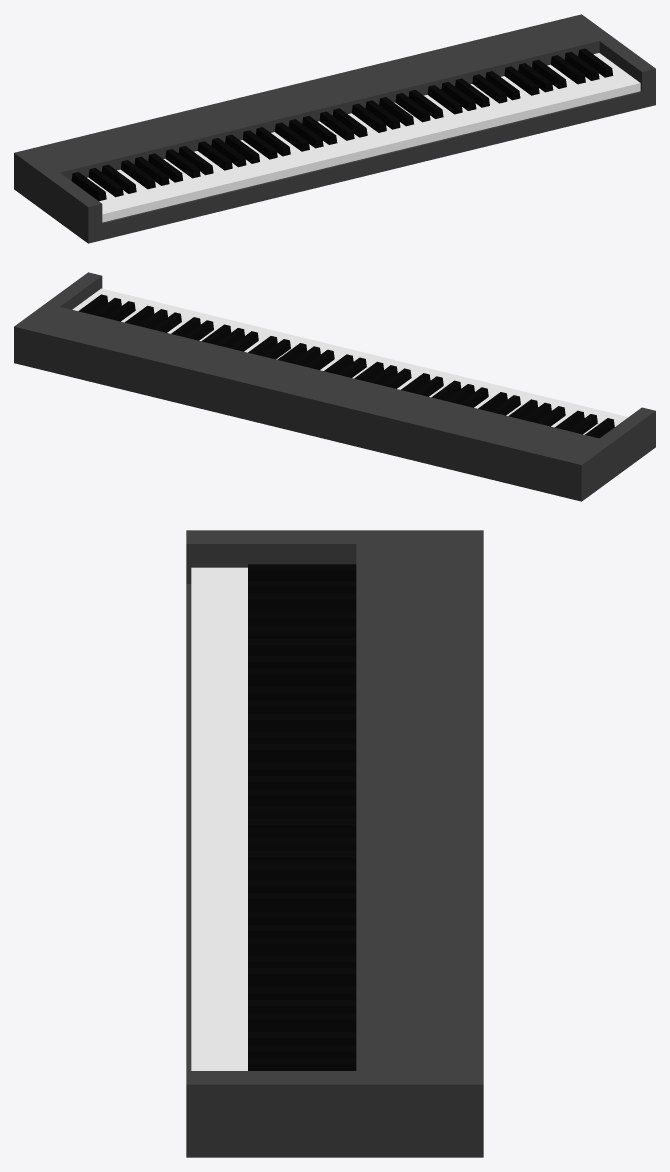
The model's file is Piano.fbx.
The picture shows the model from 3 angles, top to bottom: view 1: azimuth 30°, elevation 25°; view 2: azimuth 150°, elevation 25°; view 3: azimuth 270°, elevation 25°; orthographic projection. The views are drawn at different scales.
Parts seen in each view (by area): view 1: Cube; view 2: Cube; view 3: Cube.
Part boxes in pixels (x1=…): Cube: x1=14, y1=14, x2=655, y2=243; Cube: x1=14, y1=272, x2=655, y2=501; Cube: x1=186, y1=530, x2=483, y2=1157.
Size of the model in its own units: 128 by 7.86 by 29.
